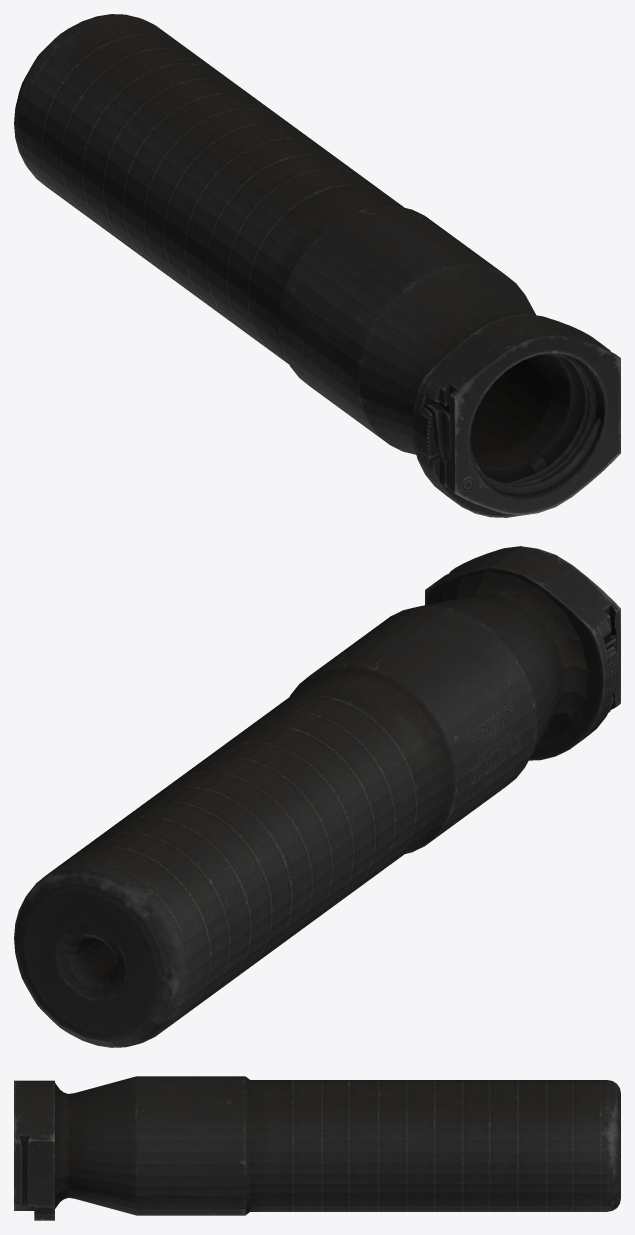
3 renders of one model, top to bottom at view 1: azimuth 30°, elevation 25°; view 2: azimuth 150°, elevation 25°; view 3: azimuth 270°, elevation 25°, orthographic. The views are drawn at different scales.
Visible parts, largest first — view 1: TW_5fbe760793164a5b6278efc8_PZ_Import; view 2: TW_5fbe760793164a5b6278efc8_PZ_Import; view 3: TW_5fbe760793164a5b6278efc8_PZ_Import.
Boxes of the visible parts, x1,y1,x2,y2 form: TW_5fbe760793164a5b6278efc8_PZ_Import: (14,14,620,517); TW_5fbe760793164a5b6278efc8_PZ_Import: (14,546,620,1047); TW_5fbe760793164a5b6278efc8_PZ_Import: (14,1076,620,1220).
Bounding box in the file's own units: 0.0246 × 0.1029 × 0.0246.
Materials: 1 (1 with a texture image).
